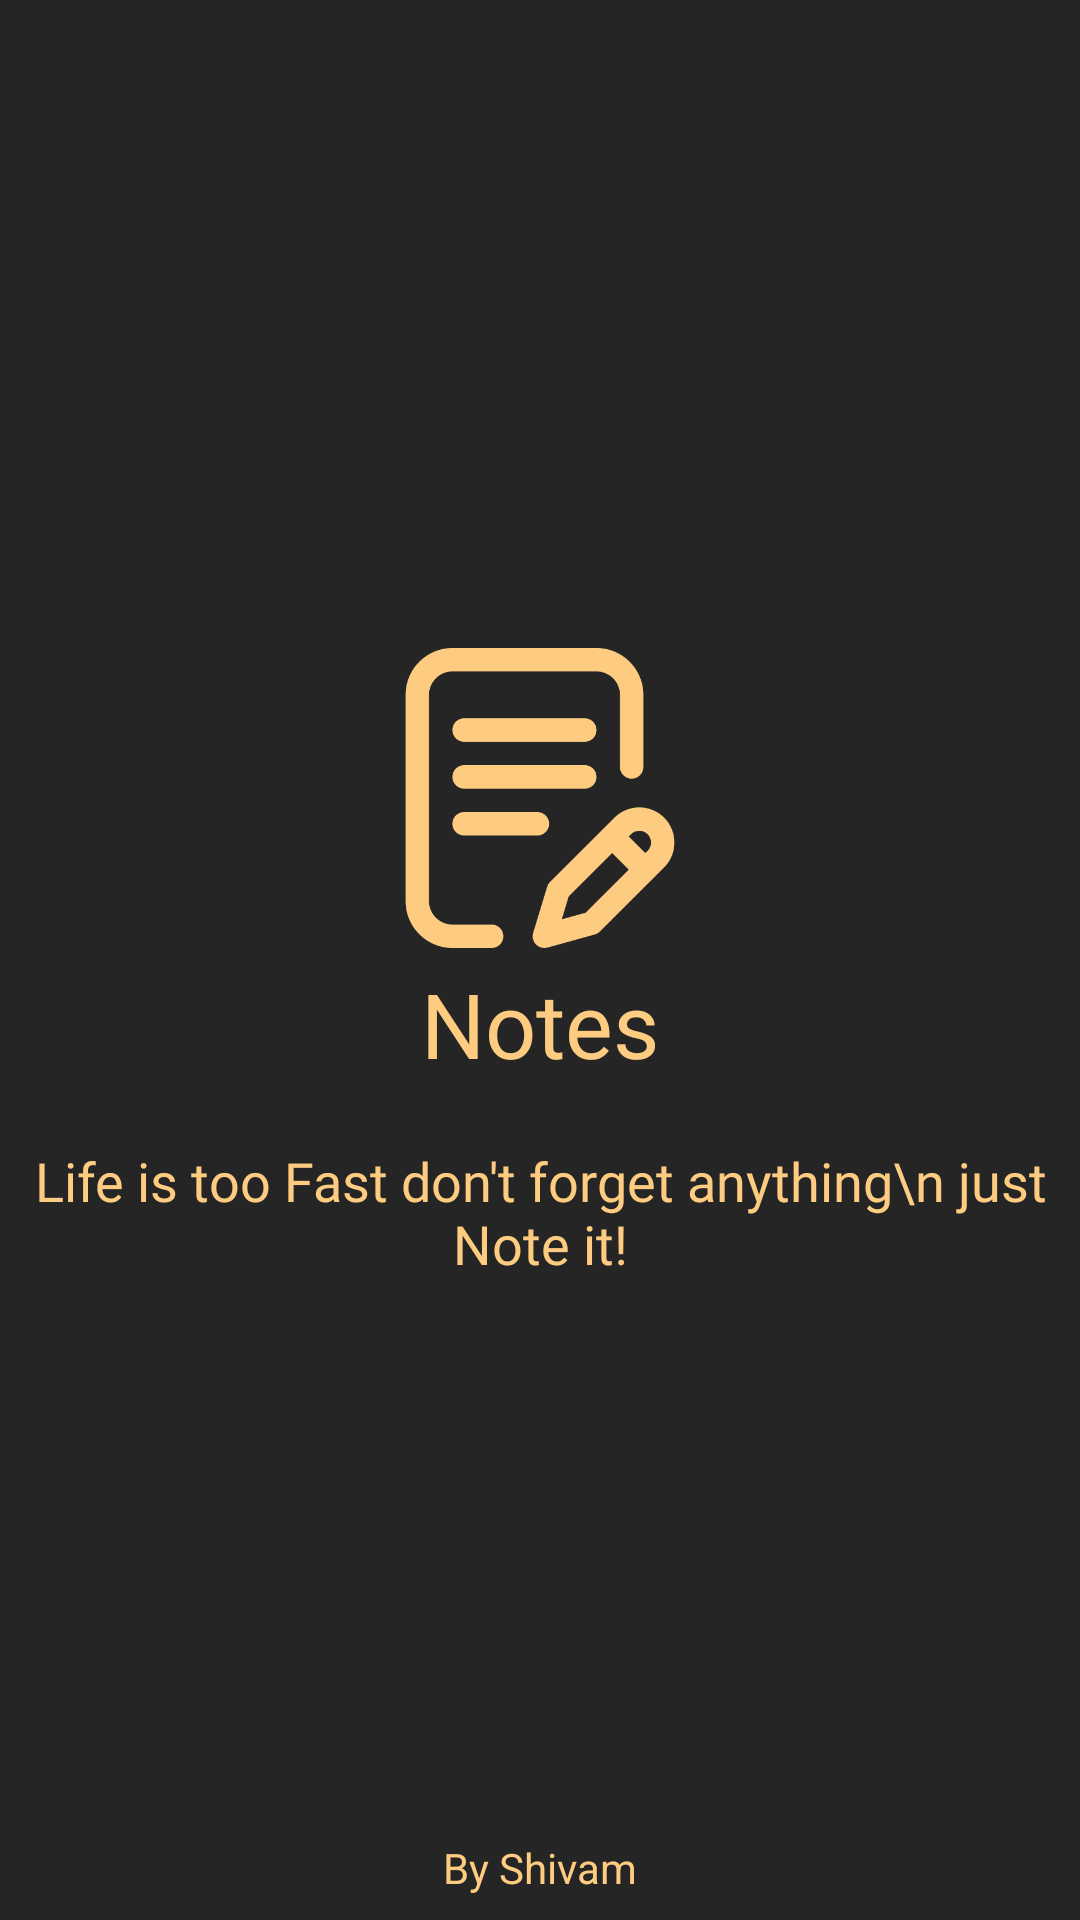

Where to tap for icons on this 1080 x 1920 app screen, as [x,y]:
writing: [540,798]
